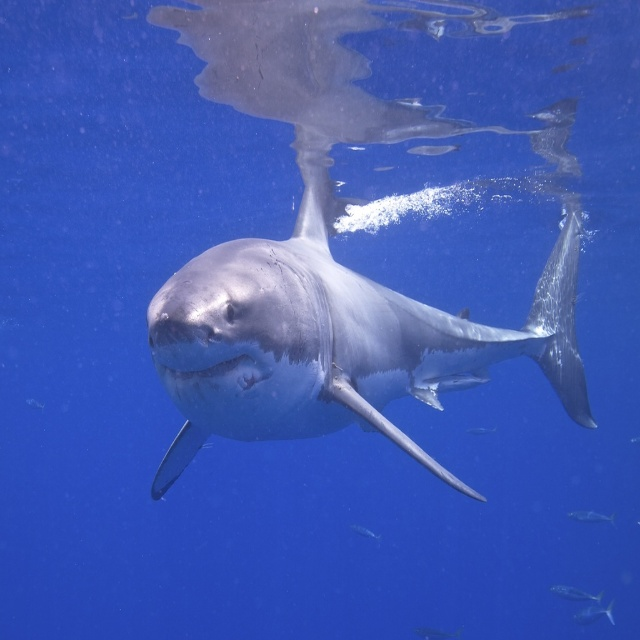Shark: (146, 175, 597, 504)
